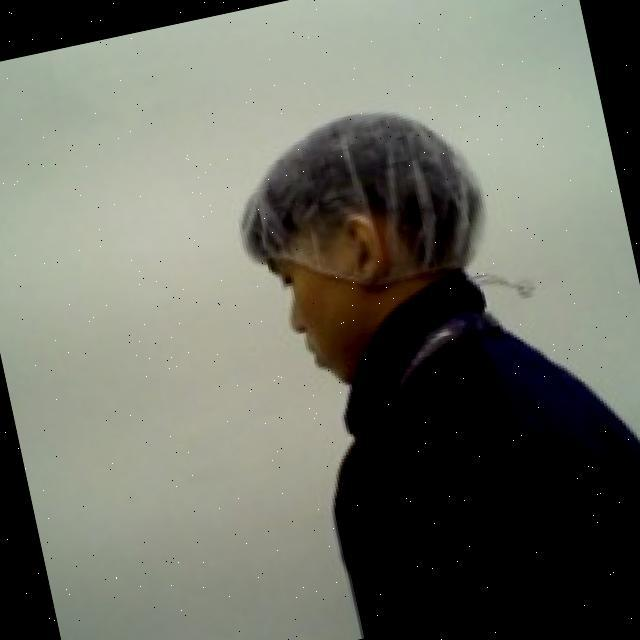gloves: (212, 86, 503, 320)
no_hairnet: (266, 209, 422, 412)
